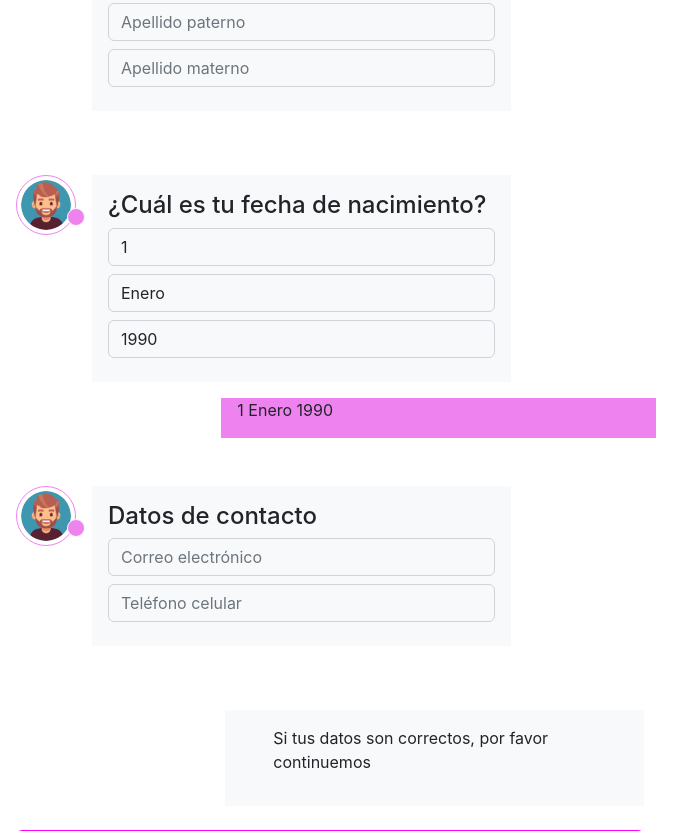
Scenario: Contact section should › Ask for required fields
The width and height of the screenshot is (673, 831).
(page scrolled)
Click the field with placeholder "Correo electrónico" at (301, 557), box [108,538,495,576]
(page scrolled)
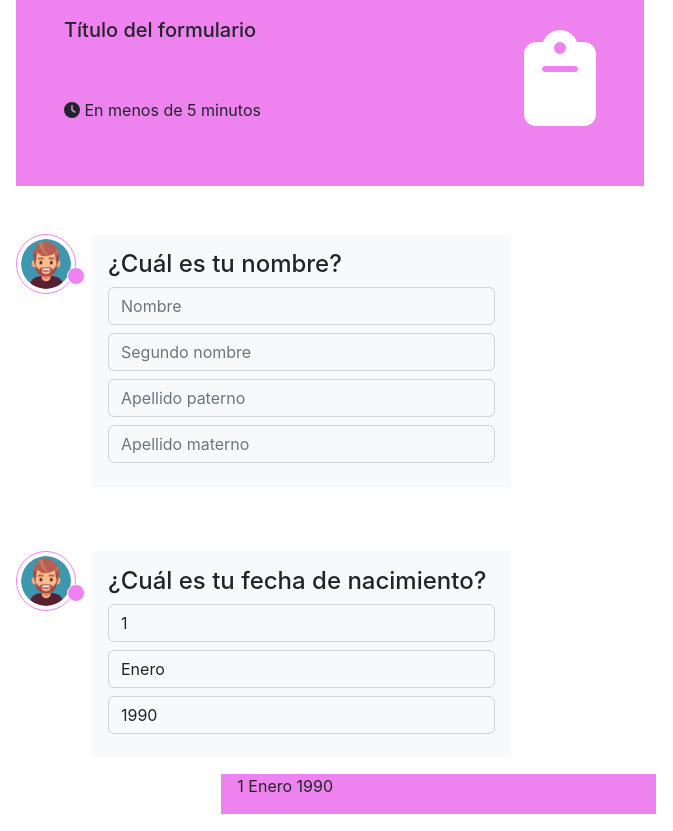
Type "Pedro" into the field with placeholder "Segundo nombre" at (301, 352), box [108,333,495,371]
(page scrolled)
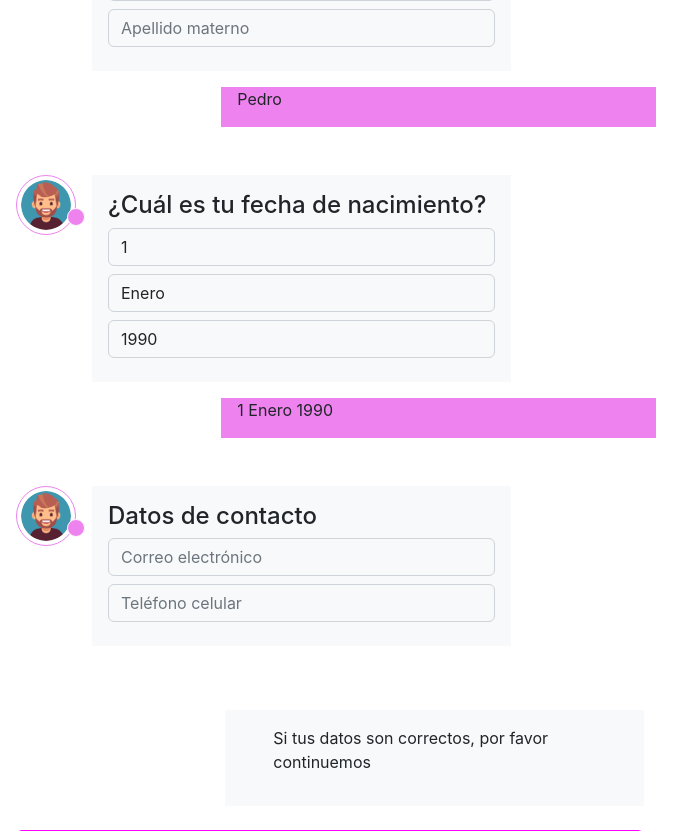
Click the field with placeholder "Teléfono celular" at (301, 603), box [108,584,495,622]
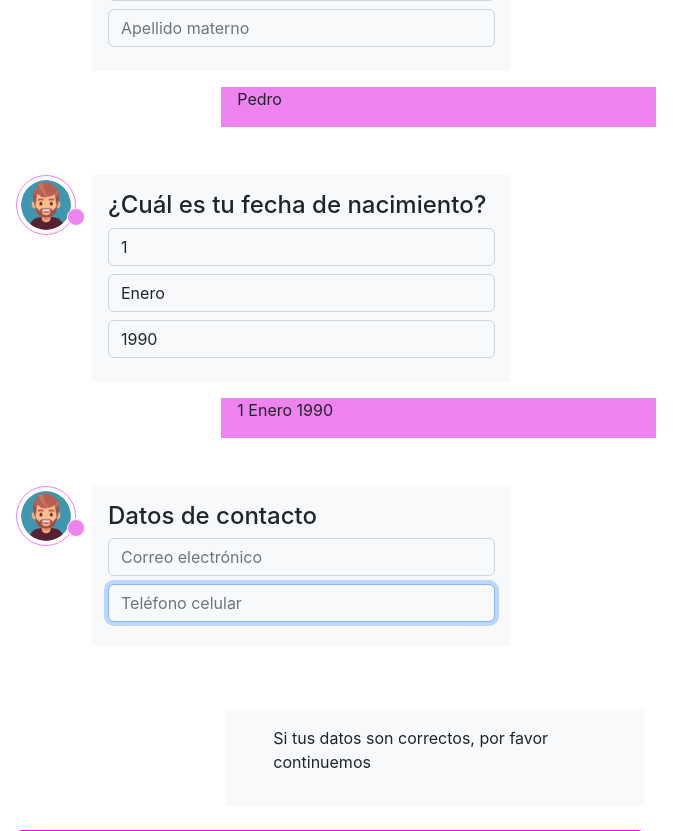
Type "Ortiz" into the field with placeholder "Apellido materno" at (301, 28), box [108,9,495,47]
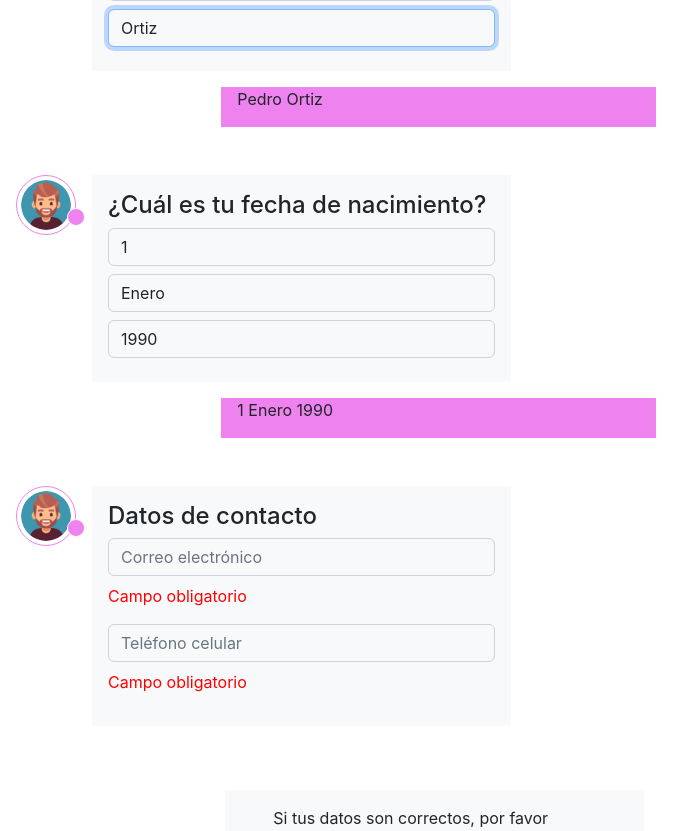
Result: the text "Campo obligatorio" is shown 2 times at [108,586,247,606]; [108,672,247,692]
